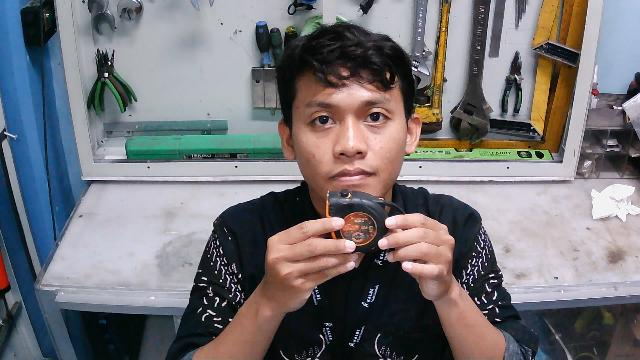meteran: (320, 182, 411, 265)
